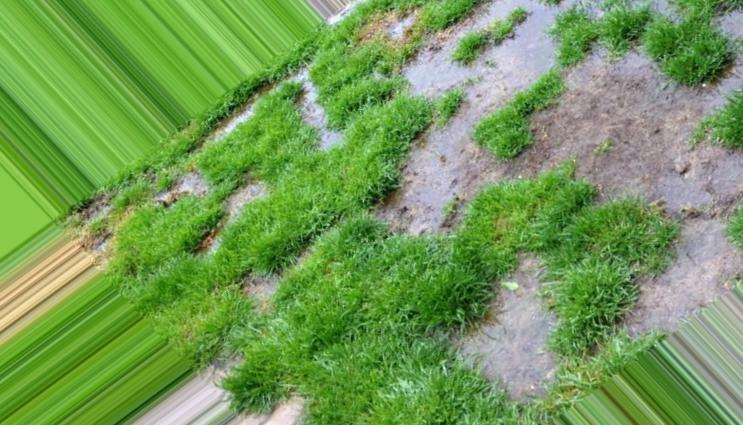patch: (574, 76, 666, 189), (486, 319, 540, 376), (419, 147, 449, 227)
